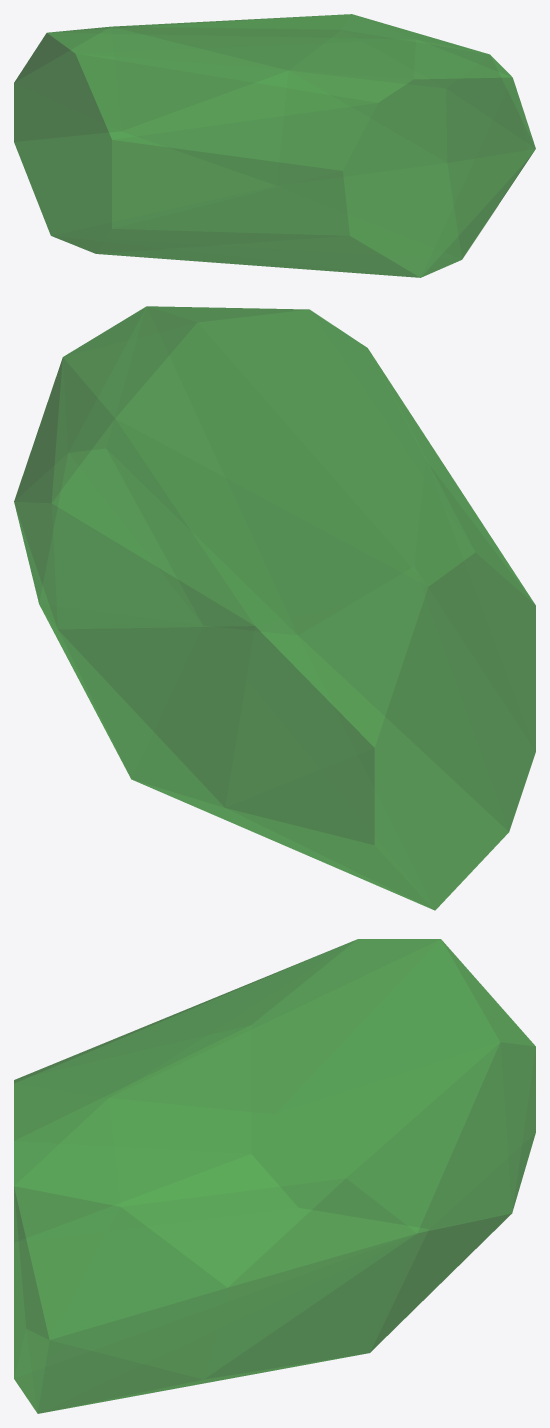
3 views of the same model, one above another, from view 1: azimuth 30°, elevation 25°; view 2: azimuth 150°, elevation 25°; view 3: azimuth 270°, elevation 25° (orthographic). The views are drawn at different scales.
Parts seen in each view (by area): view 1: Shape_IndexedFaceSet.015_Shape_IndexedFaceSet.4857; view 2: Shape_IndexedFaceSet.015_Shape_IndexedFaceSet.4857; view 3: Shape_IndexedFaceSet.015_Shape_IndexedFaceSet.4857.
Part boxes in pixels (x1=…): Shape_IndexedFaceSet.015_Shape_IndexedFaceSet.4857: x1=14, y1=14, x2=535, y2=277; Shape_IndexedFaceSet.015_Shape_IndexedFaceSet.4857: x1=14, y1=306, x2=535, y2=910; Shape_IndexedFaceSet.015_Shape_IndexedFaceSet.4857: x1=14, y1=939, x2=535, y2=1413.
Bounding box in the file's own units: 0.0725 × 0.0421 × 0.0638.
